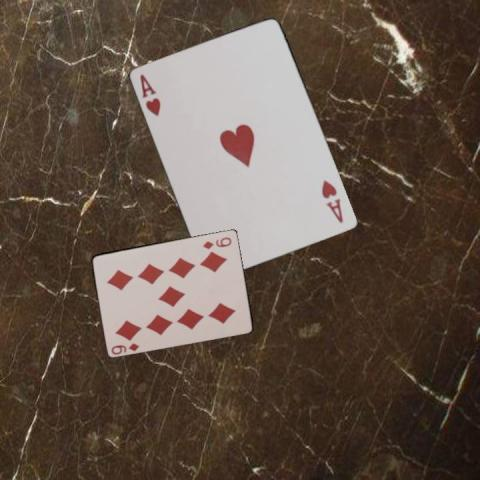9d: (200, 234, 233, 250), (109, 340, 140, 355)
Ah: (319, 176, 345, 224), (137, 71, 163, 118)
